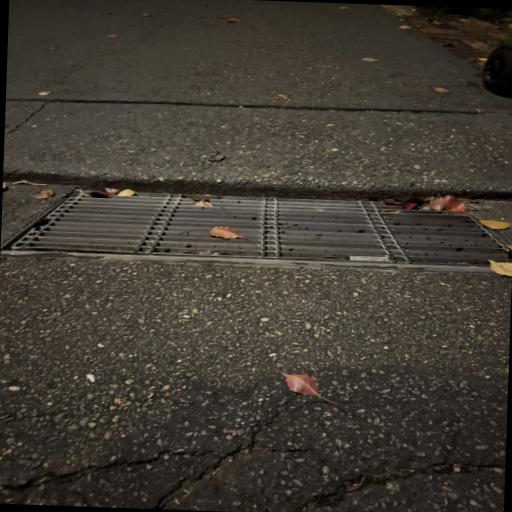gutter: (5, 192, 512, 266)
step: (2, 100, 512, 199)
